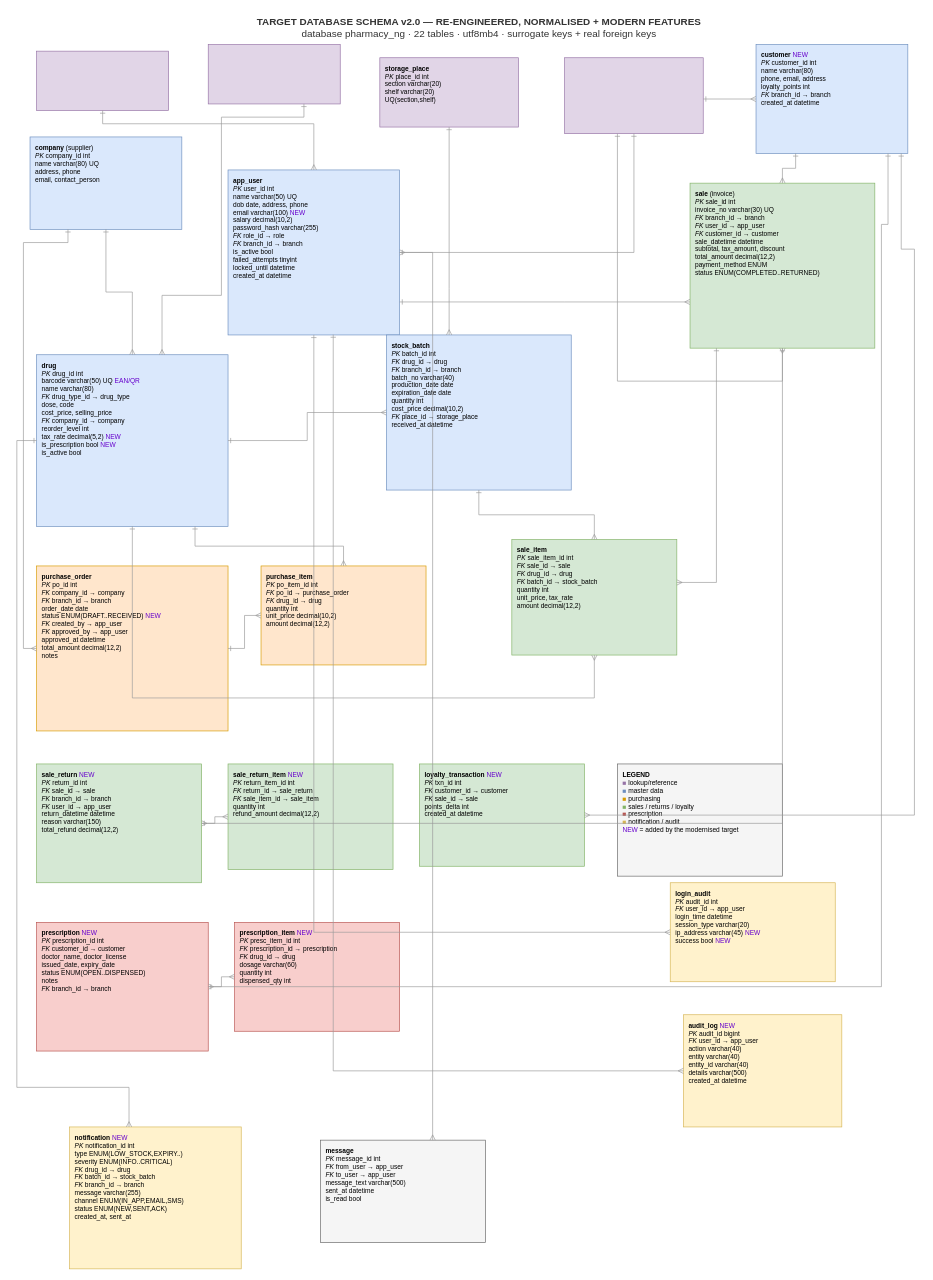
Image size: 933x1280. Some labels were removed from this diagram. Each missing label, with the box of its shape:
branch NEW PK branch_id int name varchar(80) UQ address, phone is_active bool: (564, 57, 703, 134)
drug_type PK type_id int type_name varchar(30) UQ: (208, 44, 340, 104)
role PK role_id int role_name varchar(20) UQ: (36, 50, 169, 111)
